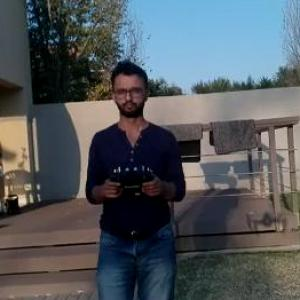follow: (82, 53, 192, 299)
